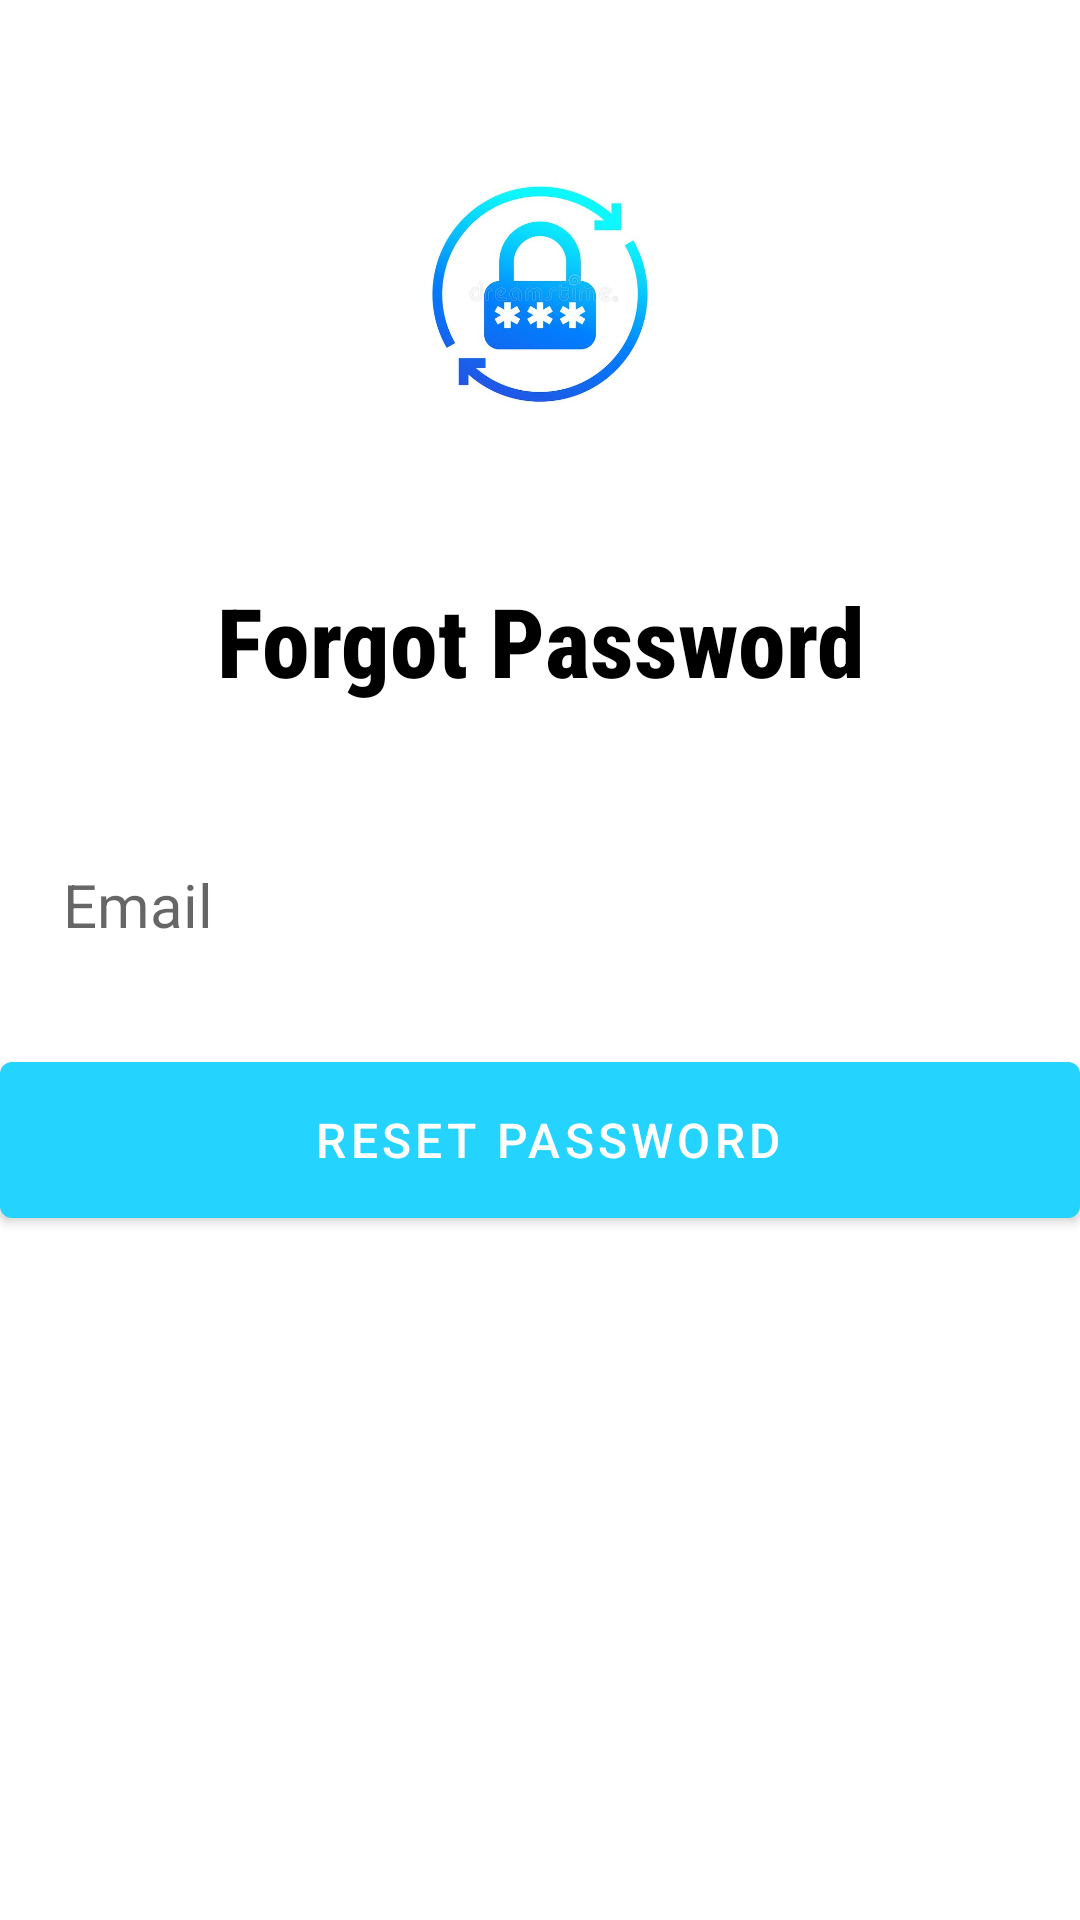

Screen size 1080px×1920px. Icon name, then its box in pixels as (x1=x1, y1=y1, x2=x2, y2=y2):
passreset: (x1=432, y1=186, x2=648, y2=402)
